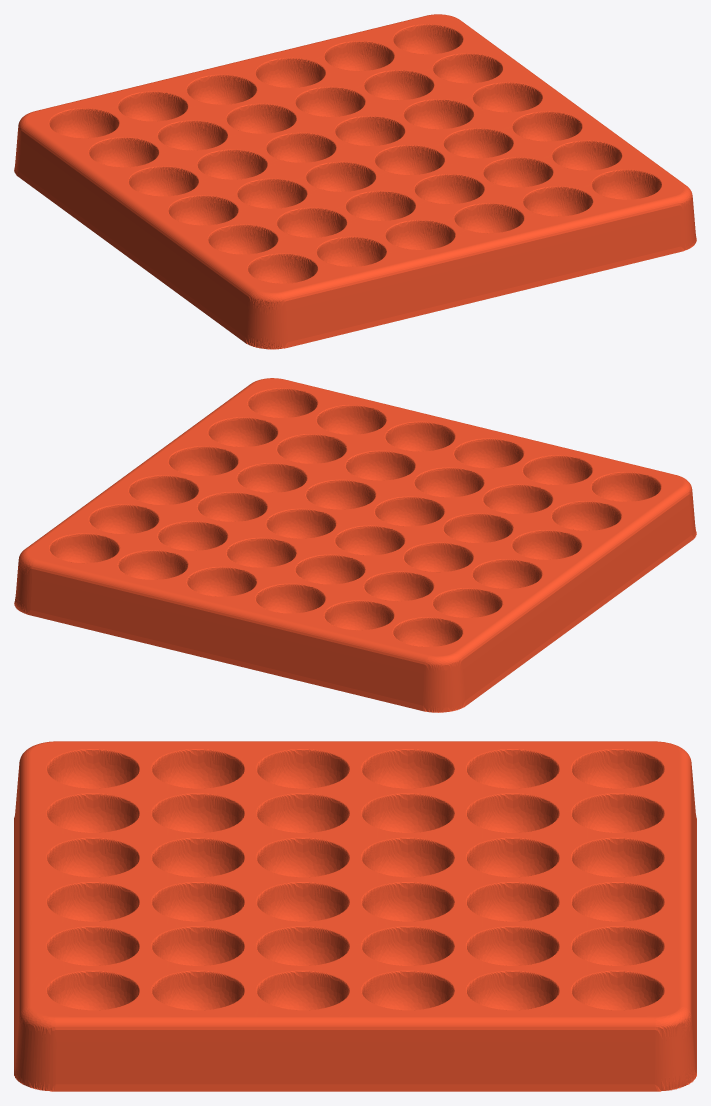
The model's file is mold.glb.
3 renders of one model, top to bottom at view 1: azimuth 30°, elevation 25°; view 2: azimuth 150°, elevation 25°; view 3: azimuth 270°, elevation 25°, orthographic. The views are drawn at different scales.
Visible parts, largest first — view 1: geometry_0; view 2: geometry_0; view 3: geometry_0.
Part boxes in pixels (x1,y1,x2,y2): geometry_0: (14, 14, 696, 349); geometry_0: (14, 378, 696, 712); geometry_0: (14, 741, 696, 1091).
Size of the model in its own units: 0.1447 by 0.0158 by 0.1447.
